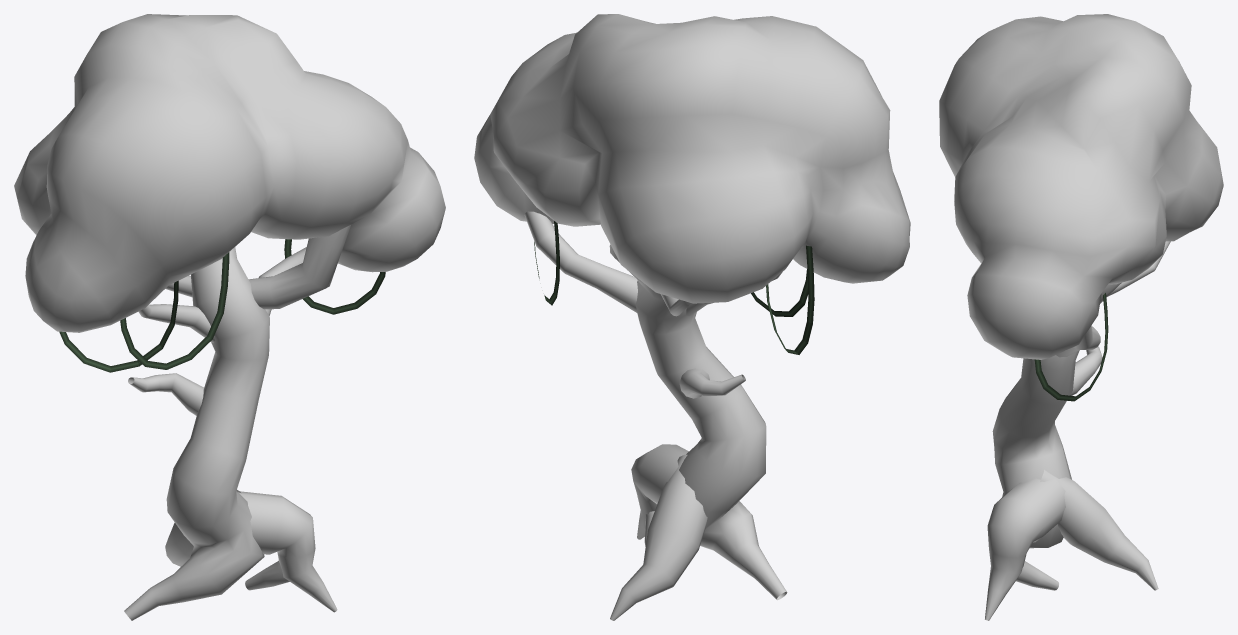
File: Tree 5.fbx
3 views of the same model, side by side, from view 1: azimuth 30°, elevation 25°; view 2: azimuth 150°, elevation 25°; view 3: azimuth 270°, elevation 25° (orthographic). The views are drawn at different scales.
Visible parts, largest first — view 1: Retopo_Leaves 5.001, Tree 5 Low, lianas.001; view 2: Retopo_Leaves 5.001, Tree 5 Low, lianas.001; view 3: Retopo_Leaves 5.001, Tree 5 Low, lianas.001.
Boxes of the visible parts, x1,y1,x2,y2 form: Retopo_Leaves 5.001: (14, 14, 445, 332); Tree 5 Low: (124, 225, 350, 620); lianas.001: (59, 239, 385, 372); Retopo_Leaves 5.001: (474, 14, 910, 303); Tree 5 Low: (524, 211, 787, 620); lianas.001: (534, 221, 814, 354); Retopo_Leaves 5.001: (939, 14, 1223, 359); Tree 5 Low: (985, 241, 1170, 620); lianas.001: (1034, 293, 1108, 401).
Size of the model in its own units: 554 by 747 by 355.
